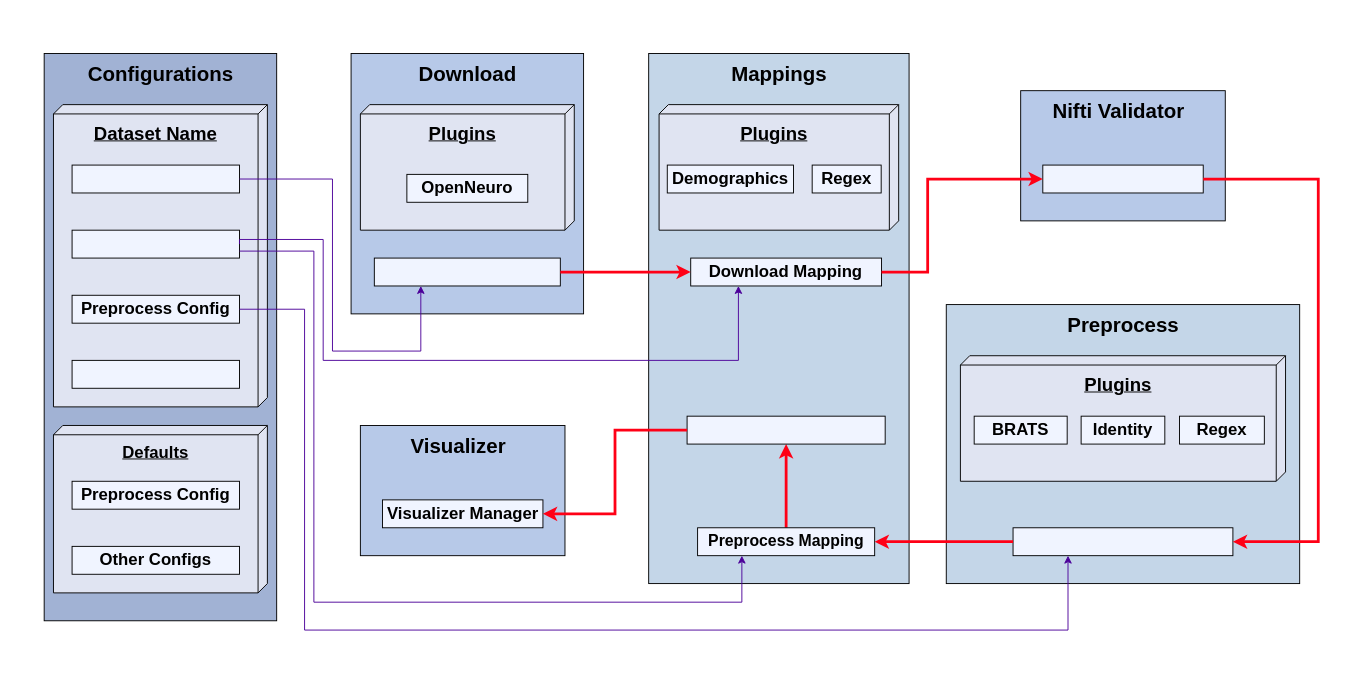
This 1371x683 diagram has some shape labels left out. Here are the shapes that lost their labels. From the top down, the centre of each, then its label:
point 155,178: Download Config
point 1122,178: Validate Manager
point 155,243: Mapping Config
point 466,271: Download Manager
point 155,373: Status Info
point 785,429: Demographics Mapping
point 1122,541: Preprocess Manager
